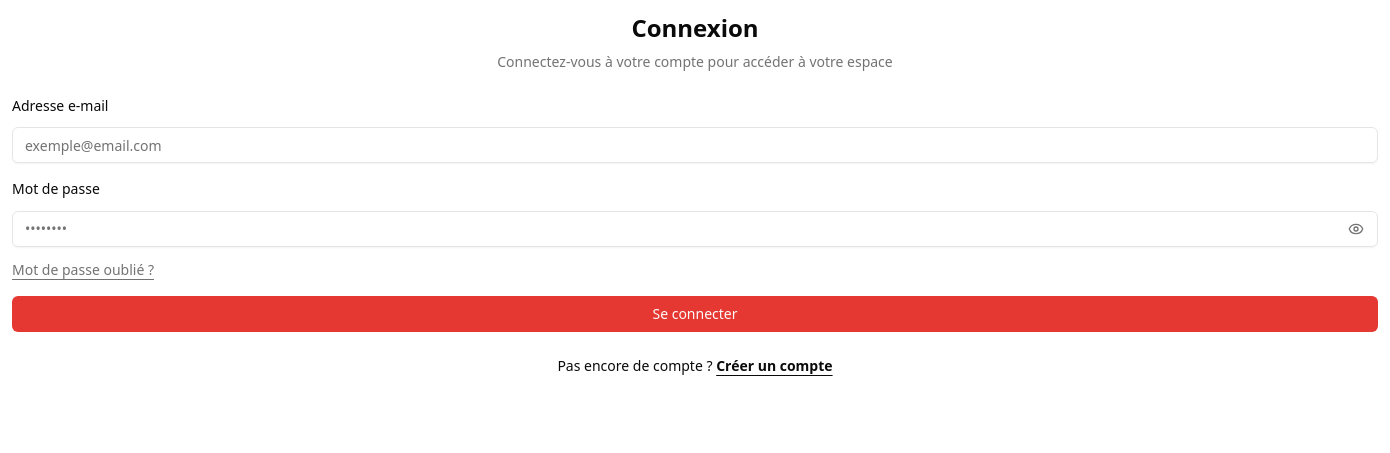
Test case: Flow d'authentification complet › Scénario d'échec : Identifiants incorrects à la connexion › devrait afficher une erreur avec des identifiants incorrects
Type "user@example.com" into the field labelled "Adresse e-mail". click: (695, 145)
box: x1=12 y1=127 x2=1378 y2=163
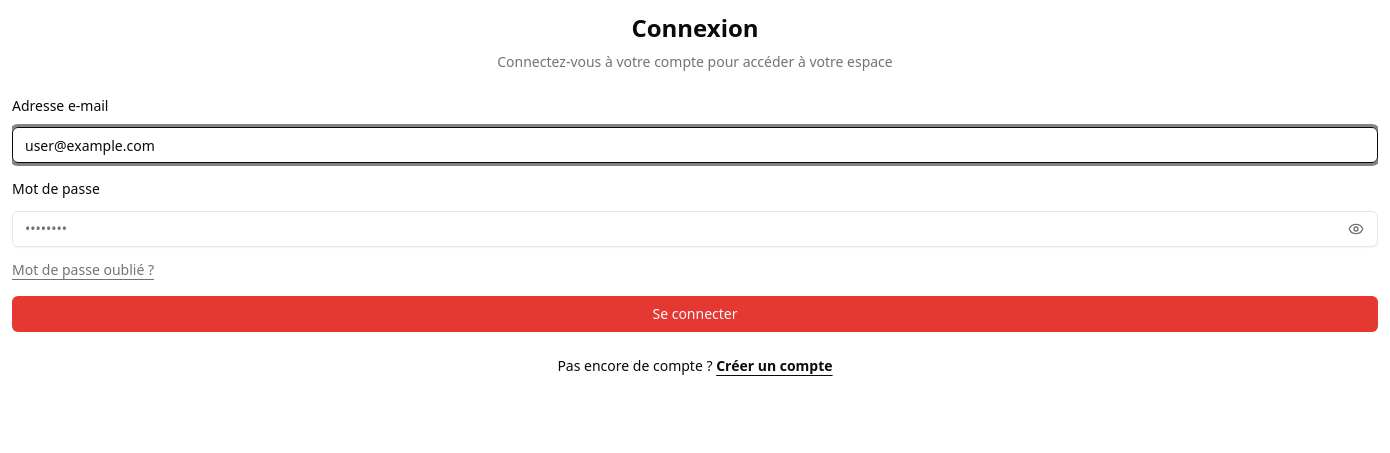
Type "wrongpassword" into the password field labelled "Mot de passe". click: (695, 228)
box: x1=12 y1=210 x2=1378 y2=246
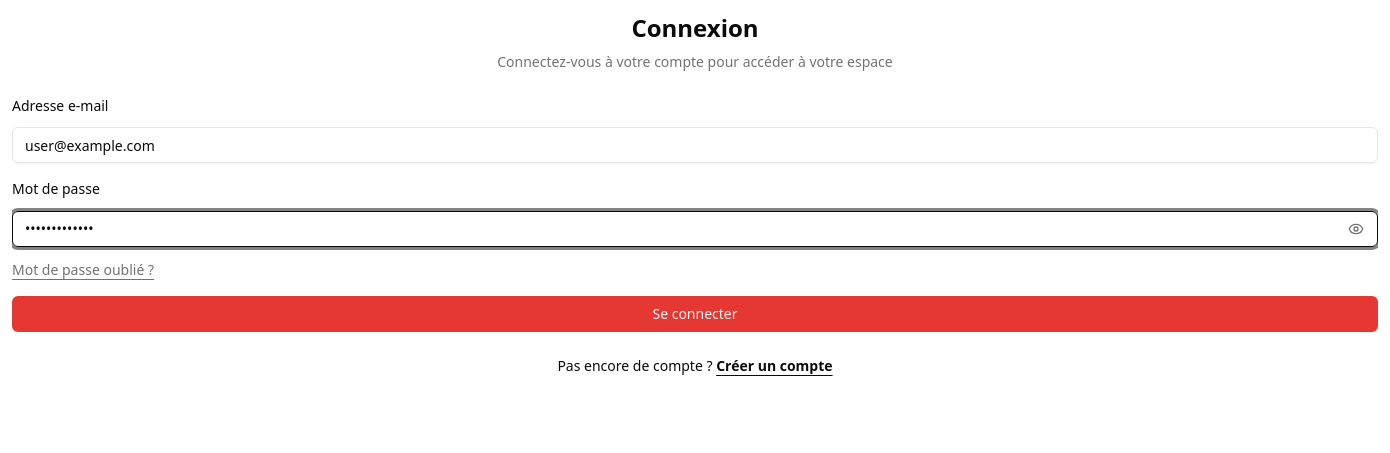
Click the button "Se connecter". click: (695, 314)
box: x1=12 y1=296 x2=1378 y2=332
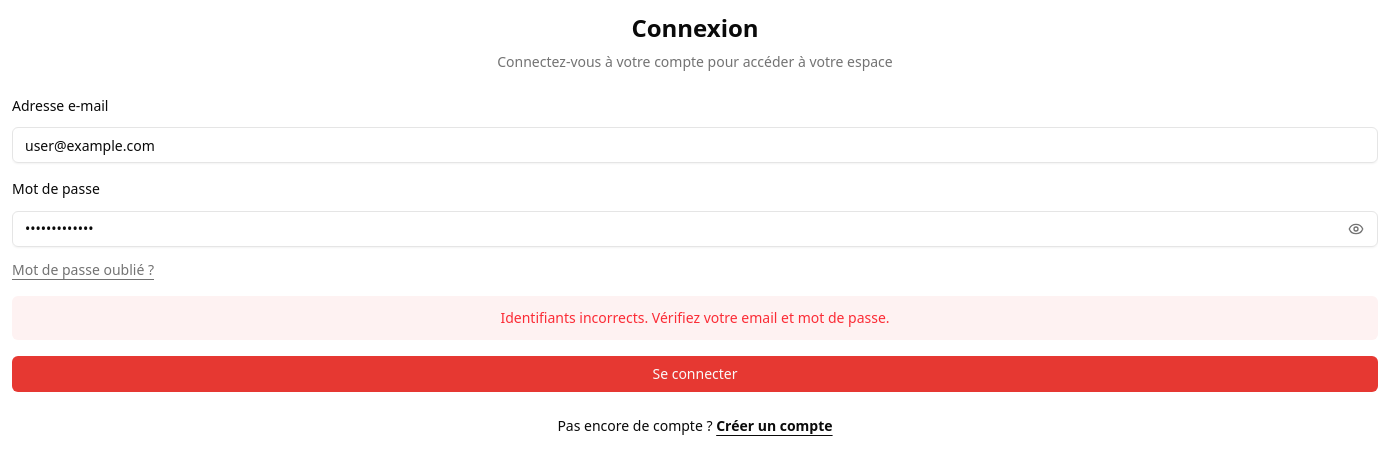
Expected: the text "Identifiants incorrects" is shown, x1=500 y1=308 x2=890 y2=326
